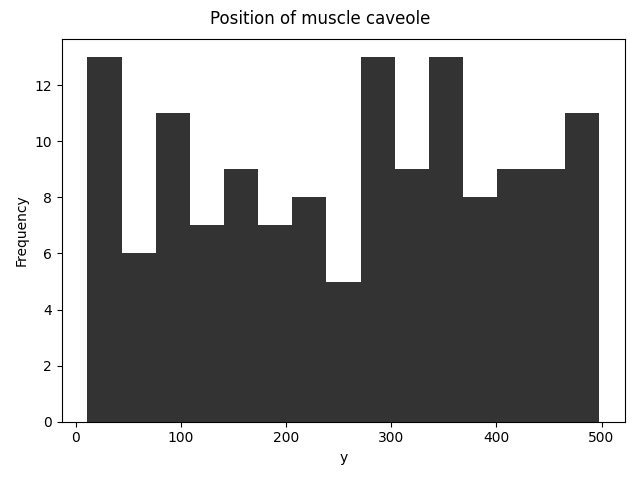canvas: (78, 47, 604, 423)
title: (204, 8, 438, 31)
x-axis: (57, 419, 633, 430)
x-labels: (68, 430, 618, 444)
x-title: (327, 448, 359, 469)
y-axis: (55, 28, 66, 426)
y-labels: (30, 75, 55, 431)
y-title: (12, 191, 32, 276)
